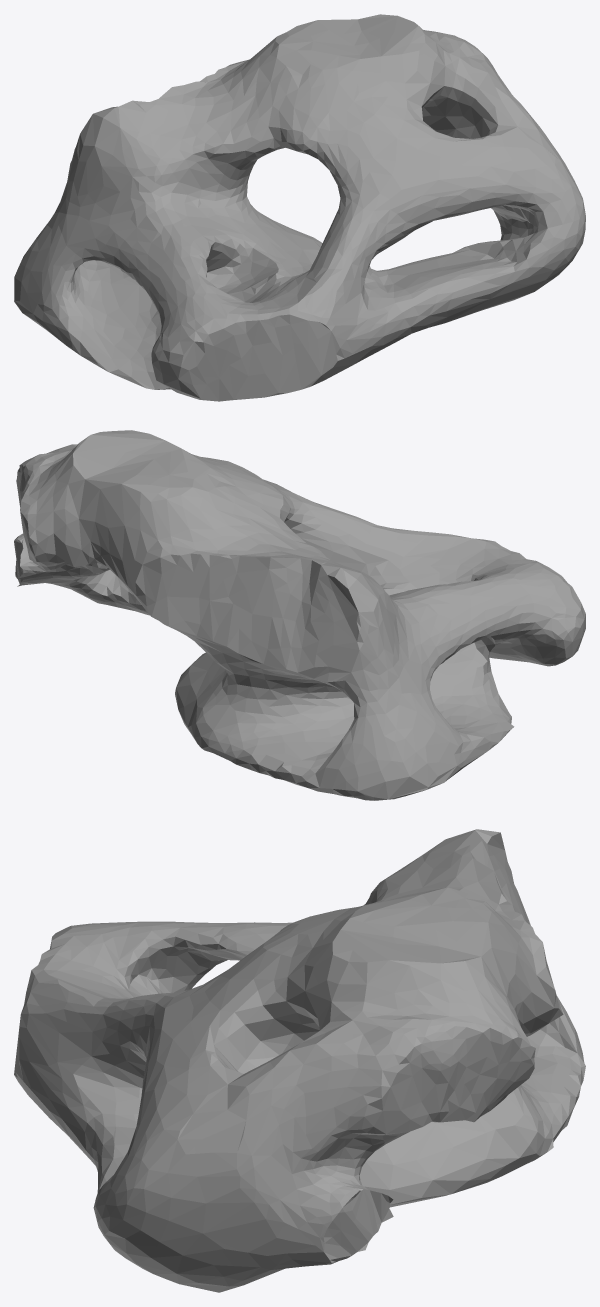
File: Rock_048.glb
3 views of the same model, one above another, from view 1: azimuth 30°, elevation 25°; view 2: azimuth 150°, elevation 25°; view 3: azimuth 270°, elevation 25° (orthographic). The views are drawn at different scales.
Parts seen in each view (by area): view 1: Rock_048; view 2: Rock_048; view 3: Rock_048.
Boxes of the visible parts, <box> form: Rock_048: <box>14,14,585,401</box>; Rock_048: <box>14,430,585,800</box>; Rock_048: <box>14,829,585,1292</box>.
Bounding box in the file's own units: 14.19 × 6.87 × 10.92.
1 material, 1 textured.
